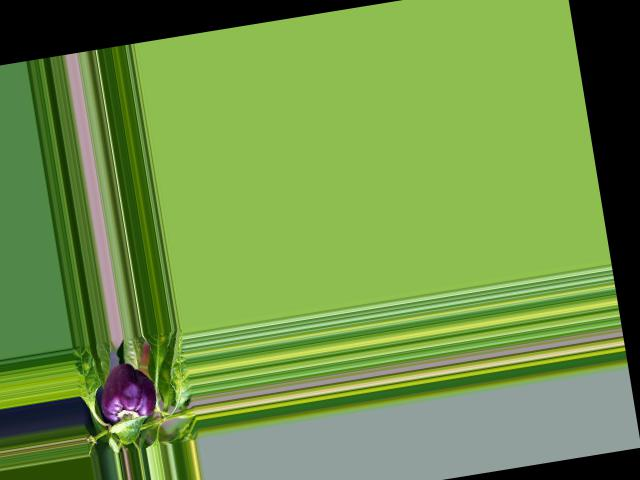bell_pepper: (95, 356, 162, 431)
